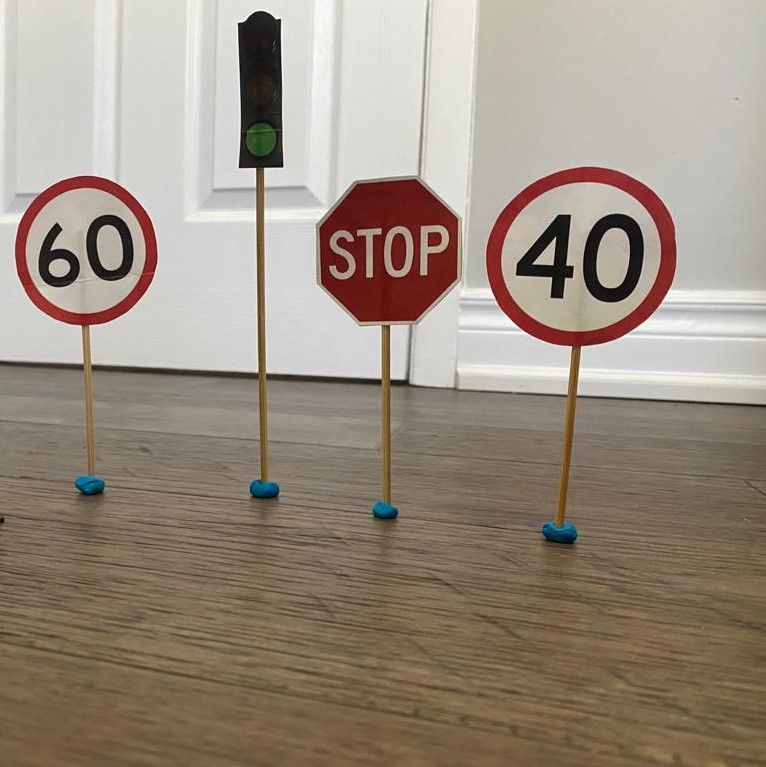Green Traffic Light: (236, 9, 287, 171)
Speed Limit 40: (484, 166, 678, 350)
Speed Limit 60: (13, 174, 162, 325)
Stop Sign: (313, 172, 468, 329)
